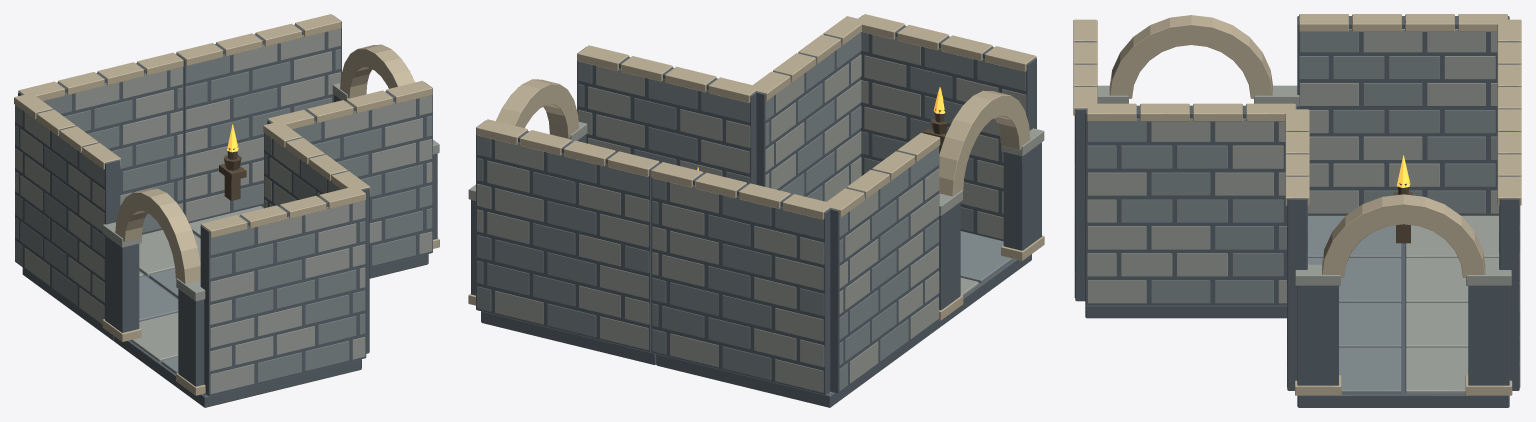
Rendered from asset.glb.
3 renders of one model, left to right at view 1: azimuth 30°, elevation 25°; view 2: azimuth 150°, elevation 25°; view 3: azimuth 270°, elevation 25°, orthographic. The views are drawn at different scales.
Parts seen in each view (by area): view 1: Demo_Wall_South, Demo_Wall_North_Turn, Demo_Wall_West_Upper, Demo_Wall_South_Turn, Demo_Wall_North_Upper, Demo_Entry_Arch, Demo_Wall_East_Lower, Demo_Floor_1, Demo_Floor_2, Demo_Exit_Arch, Demo_Torch_2, Demo_Floor_3; view 2: Demo_Wall_North_Upper, Demo_Wall_North_Turn, Demo_Wall_West_Upper, Demo_Wall_South, Demo_Wall_South_Turn, Demo_Wall_East_Lower, Demo_Entry_Arch, Demo_Exit_Arch, Demo_Floor_1, Demo_Floor_2, Demo_Floor_3, Demo_Torch_1; view 3: Demo_Wall_East_Lower, Demo_Wall_West_Upper, Demo_Exit_Arch, Demo_Floor_3, Demo_Floor_2, Demo_Entry_Arch, Demo_Wall_North_Turn, Demo_Wall_South_Turn, Demo_Wall_South, Demo_Floor_1, Demo_Wall_North_Upper, Demo_Torch_2.
Boxes of the visible parts, x1,y1,x2,y2 form: Demo_Wall_South: [200, 187, 366, 396]; Demo_Wall_North_Turn: [176, 14, 341, 223]; Demo_Wall_West_Upper: [14, 93, 121, 325]; Demo_Wall_South_Turn: [267, 80, 432, 267]; Demo_Wall_North_Upper: [18, 52, 183, 234]; Demo_Entry_Arch: [102, 188, 205, 395]; Demo_Wall_East_Lower: [263, 121, 370, 353]; Demo_Floor_1: [114, 312, 361, 407]; Demo_Floor_2: [22, 230, 200, 340]; Demo_Exit_Arch: [332, 44, 439, 248]; Demo_Torch_2: [219, 124, 246, 200]; Demo_Floor_3: [189, 205, 428, 278]; Demo_Wall_North_Upper: [651, 162, 833, 394]; Demo_Wall_North_Turn: [476, 119, 659, 352]; Demo_Wall_West_Upper: [823, 133, 940, 393]; Demo_Wall_South: [858, 14, 1036, 241]; Demo_Wall_South_Turn: [577, 45, 756, 184]; Demo_Wall_East_Lower: [749, 16, 865, 201]; Demo_Entry_Arch: [938, 90, 1044, 320]; Demo_Exit_Arch: [468, 79, 587, 305]; Demo_Floor_1: [931, 231, 1031, 333]; Demo_Floor_2: [656, 326, 930, 407]; Demo_Floor_3: [481, 311, 655, 365]; Demo_Torch_1: [923, 87, 947, 153]; Demo_Wall_East_Lower: [1085, 103, 1297, 305]; Demo_Wall_West_Upper: [1297, 14, 1509, 215]; Demo_Exit_Arch: [1295, 194, 1512, 395]; Demo_Floor_3: [1297, 303, 1509, 407]; Demo_Floor_2: [1308, 215, 1498, 305]; Demo_Entry_Arch: [1097, 15, 1299, 106]; Demo_Wall_North_Turn: [1497, 109, 1521, 390]; Demo_Wall_South_Turn: [1285, 109, 1309, 390]; Demo_Wall_South: [1073, 19, 1097, 301]; Demo_Floor_1: [1085, 305, 1286, 318]; Demo_Wall_North_Upper: [1497, 19, 1521, 109]; Demo_Torch_2: [1393, 155, 1413, 243].
Size of the model in its own units: 8.5 by 4.38 by 8.46.
